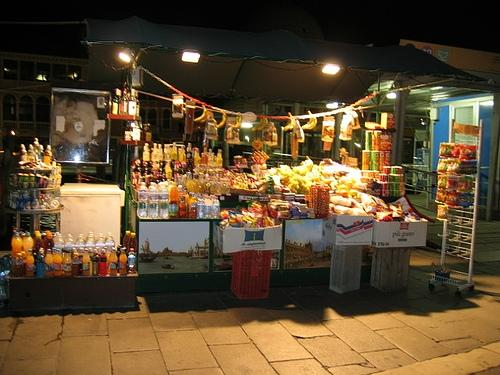banana: (301, 110, 317, 130), (191, 104, 206, 122), (229, 116, 242, 130), (251, 118, 263, 132), (214, 114, 226, 128), (302, 112, 312, 128), (284, 116, 294, 131), (256, 118, 267, 130)
